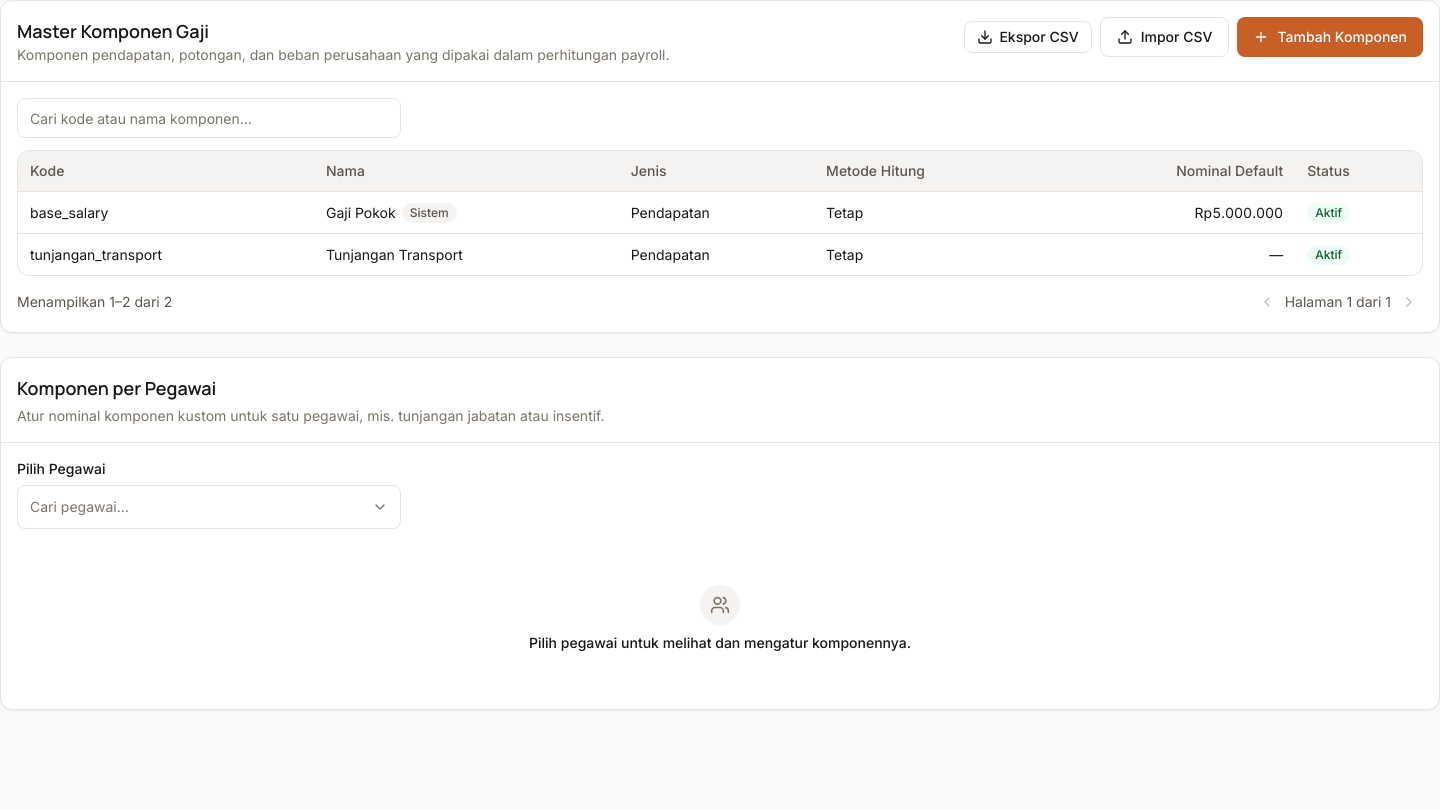
Test: SalaryComponentsPanel › lets an employee be selected and their assigned components loaded
Expected: the text "Gaji Pokok" is shown, x1=326 y1=204 x2=396 y2=220
Click the dropdown named "Pilih Pegawai" at (79, 506), box x1=17 y1=485 x2=401 y2=529
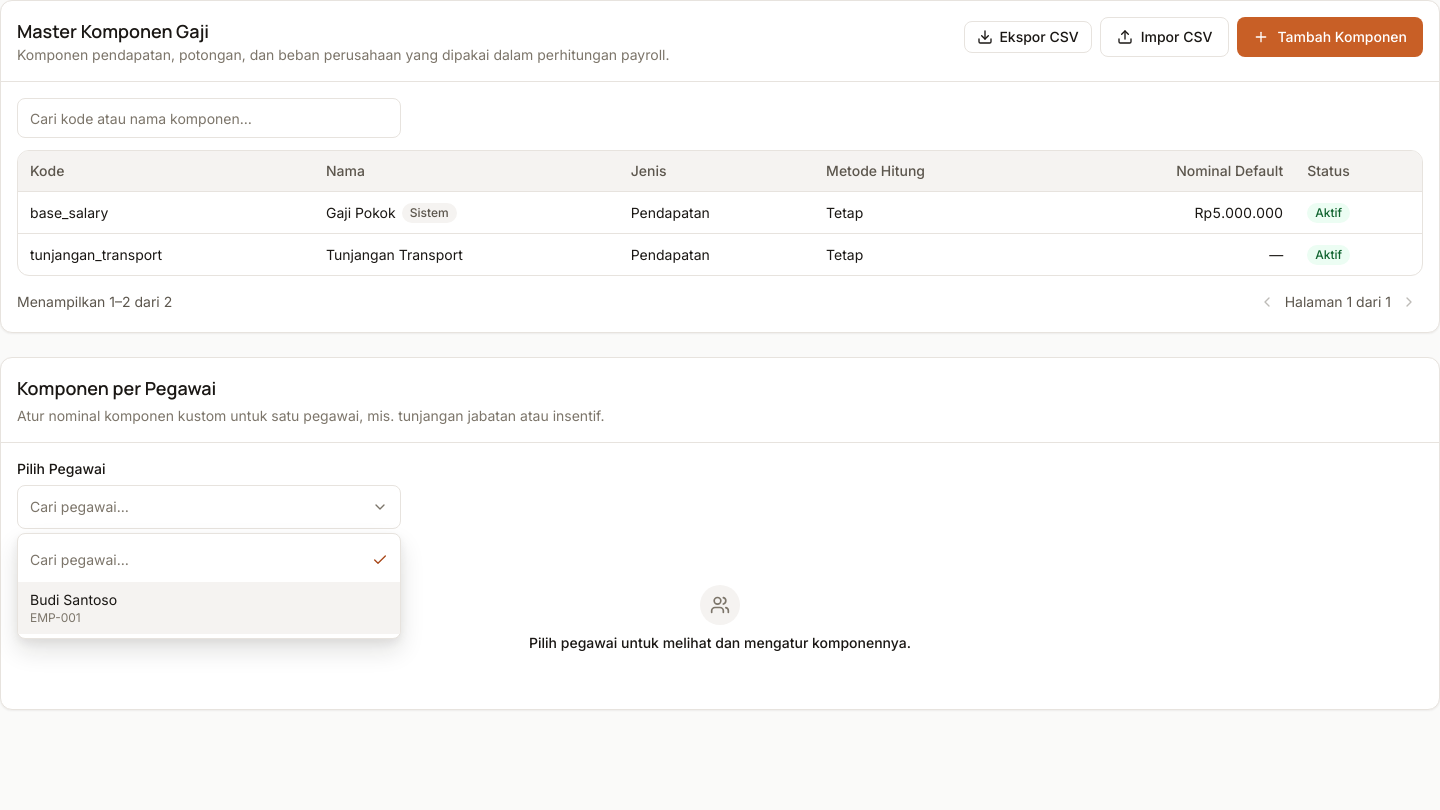
Click the text "Budi Santoso" at (74, 600), box x1=30 y1=590 x2=117 y2=610
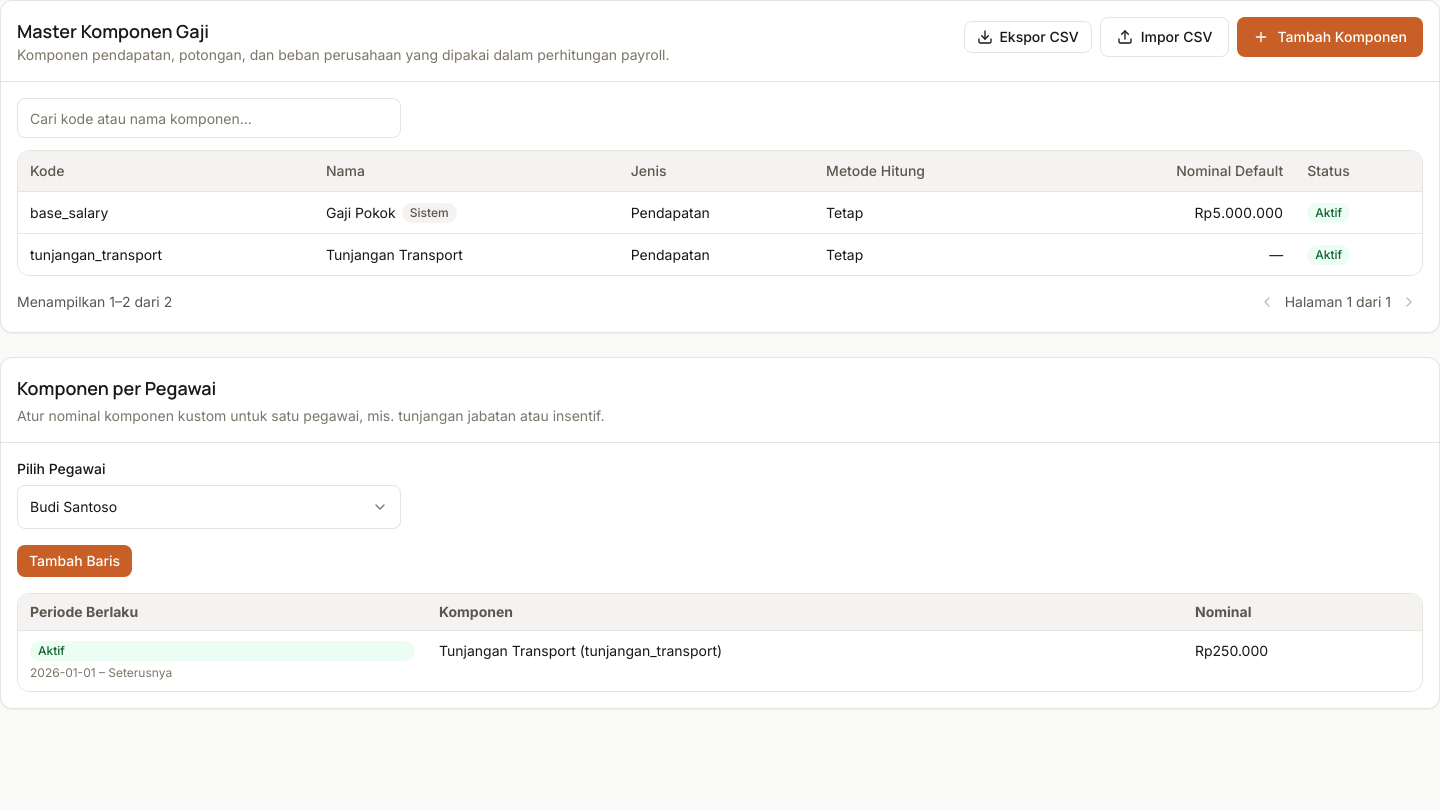
Result: the text "Tunjangan Transport (tunjangan_transport)" is shown at x1=427 y1=630 x2=1183 y2=691
Result: the text "Rp250.000" is shown at x1=1183 y1=630 x2=1422 y2=691
